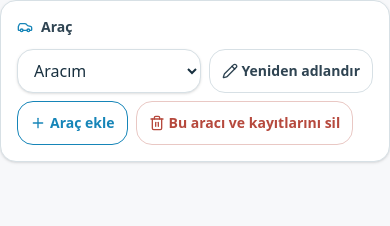
it: VehicleSwitcher delete confirmation › does not delete immediately on the first click
The image size is (390, 226).
Click the button "Bu aracı ve kayıtlarını sil": [244, 123] box [136, 101, 353, 145]
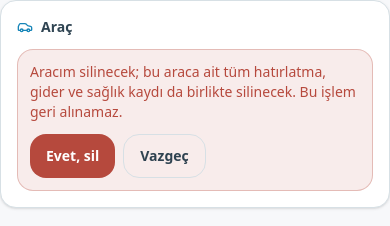
Expected: the text "bu işlem geri alınamaz" is shown, [30, 62, 356, 121]
